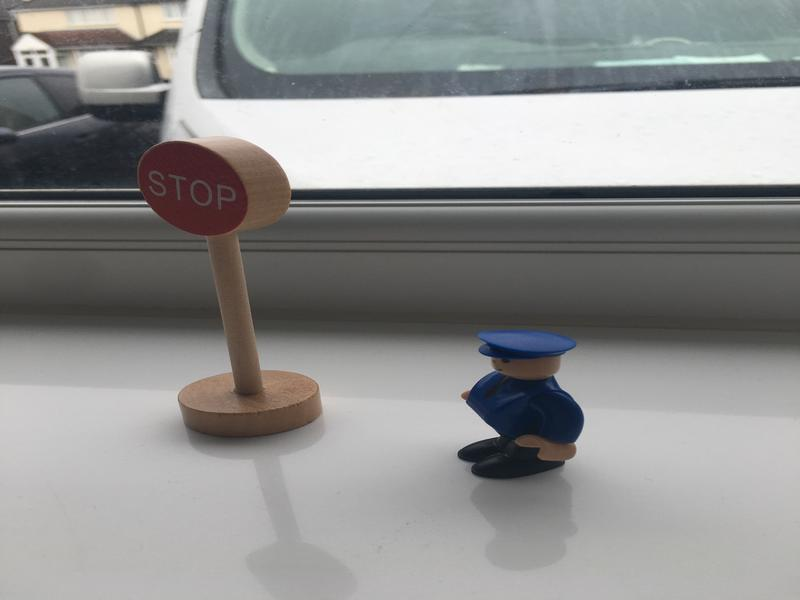Traffic_Sign_Stop: (136, 142, 249, 236)
person: (451, 327, 584, 487)
